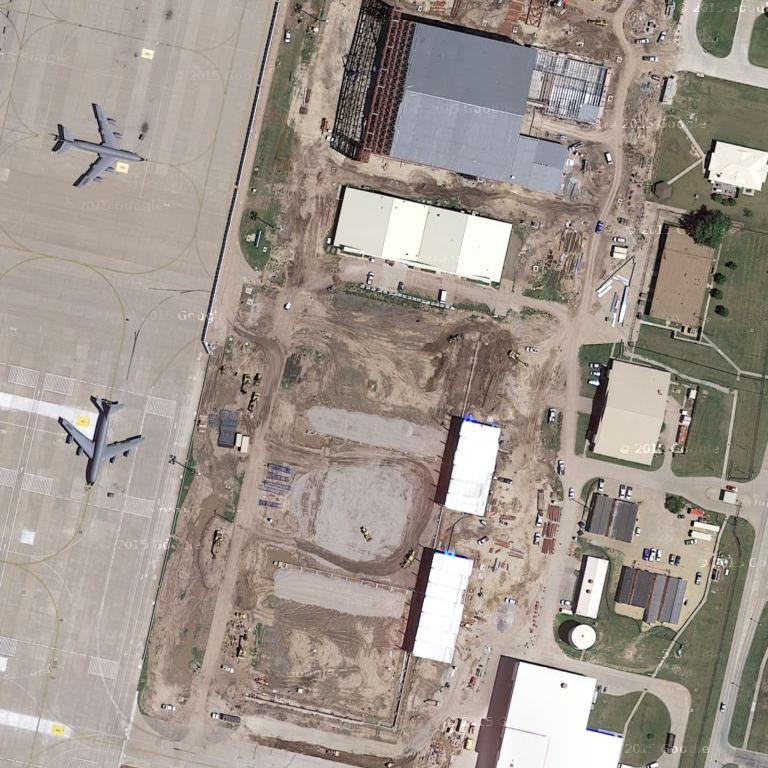KC-135: (53, 393, 146, 489), (50, 97, 143, 191)
